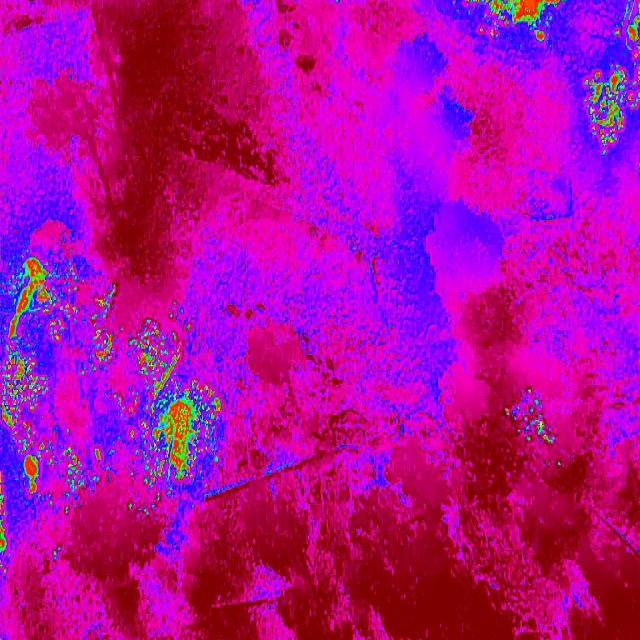fire: (0, 257, 120, 514), (120, 317, 226, 514), (457, 0, 568, 49), (580, 70, 640, 156), (496, 386, 558, 446), (614, 0, 640, 70), (0, 514, 15, 568)
